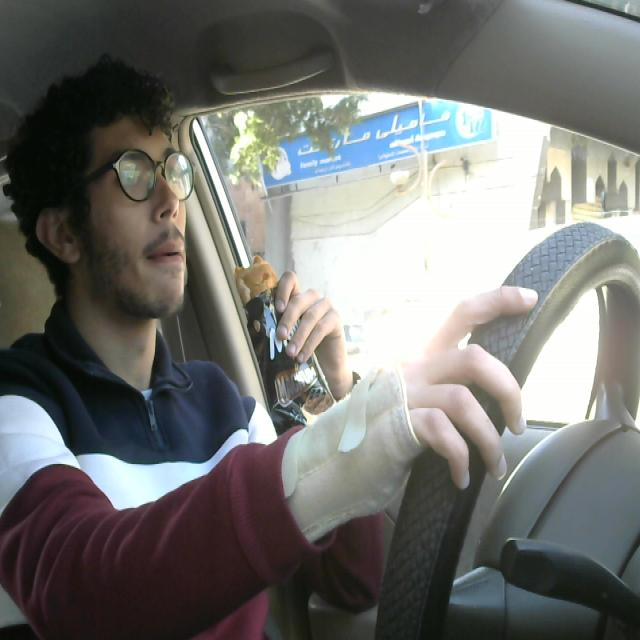eating: (228, 256, 373, 502)
